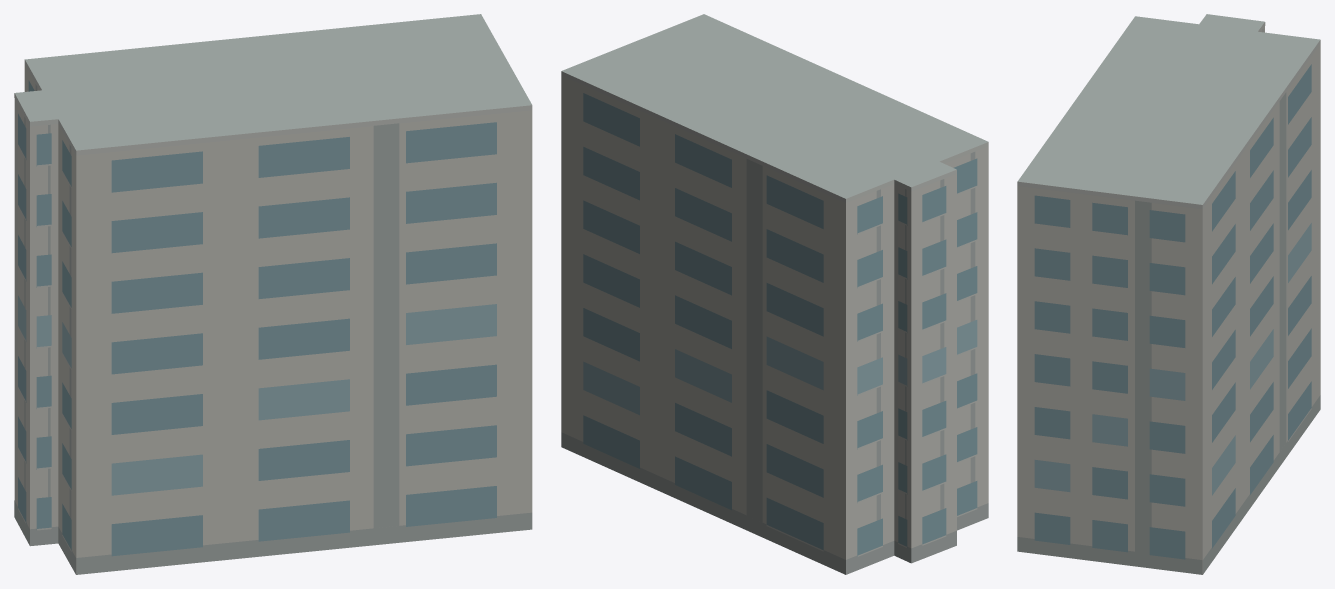
Rendered from survey-upis-32871007.glb.
The picture shows the model from 3 angles, left to right: view 1: azimuth 30°, elevation 25°; view 2: azimuth 150°, elevation 25°; view 3: azimuth 270°, elevation 25°; orthographic projection. The views are drawn at different scales.
Visible parts, largest first — view 1: survey-upis-32871007.tmp; view 2: survey-upis-32871007.tmp; view 3: survey-upis-32871007.tmp.
Part boxes in pixels (x1=…): survey-upis-32871007.tmp: x1=14, y1=14, x2=532, y2=574; survey-upis-32871007.tmp: x1=561, y1=14, x2=988, y2=574; survey-upis-32871007.tmp: x1=1017, y1=14, x2=1320, y2=574.
Bounding box in the file's own units: 23.64 × 21.35 × 15.86.
